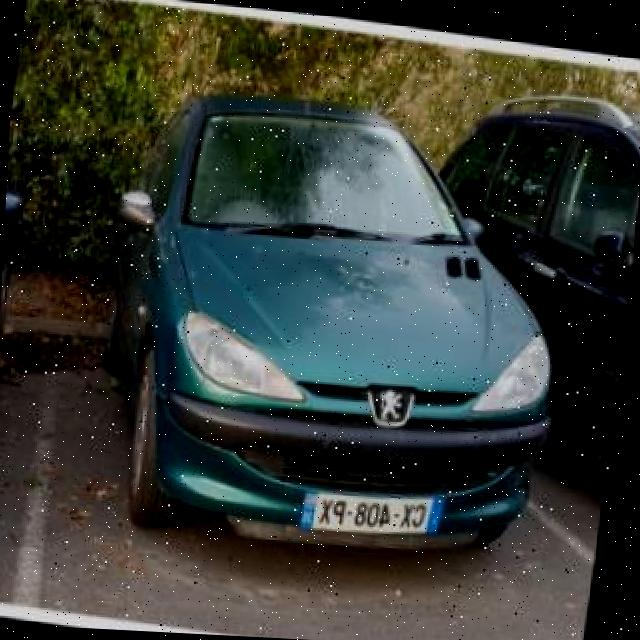Autre: (302, 490, 446, 538)
